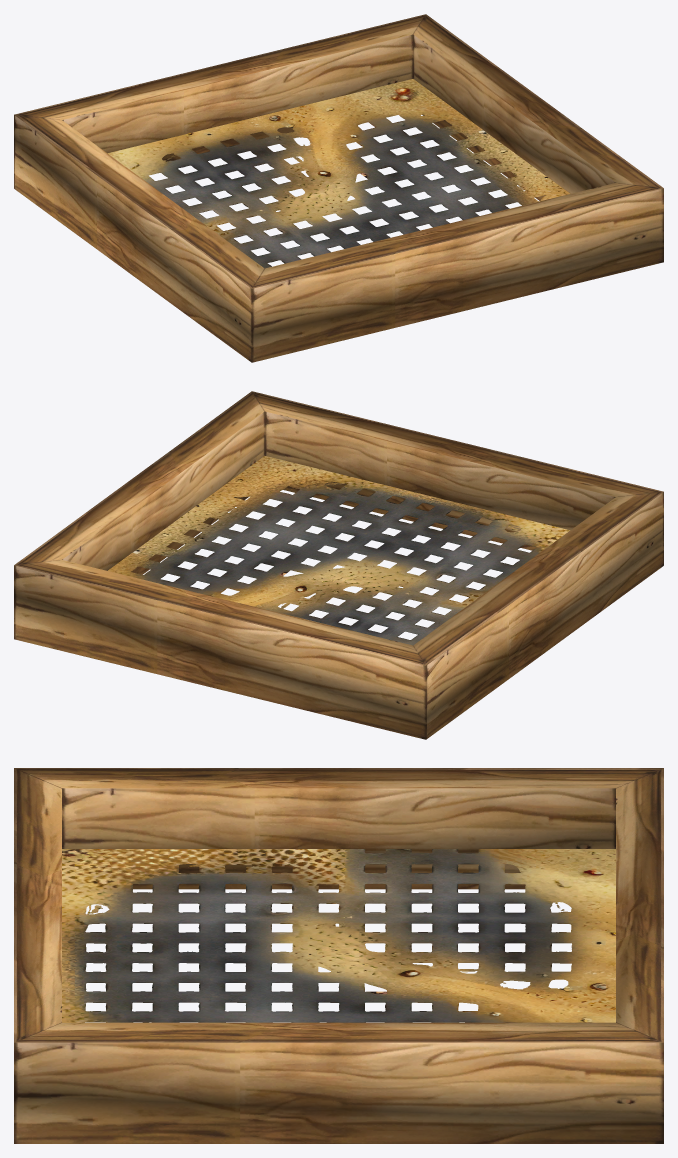
File: miningsifter01.obj
3 renders of one model, top to bottom at view 1: azimuth 30°, elevation 25°; view 2: azimuth 150°, elevation 25°; view 3: azimuth 270°, elevation 25°, orthographic. The views are drawn at different scales.
Parts seen in each view (by area): view 1: Geoset0, Geoset1; view 2: Geoset0, Geoset1; view 3: Geoset0, Geoset1.
Boxes of the visible parts, bbox=[...] form: Geoset0: bbox=[14, 14, 663, 362]; Geoset1: bbox=[108, 79, 569, 268]; Geoset0: bbox=[14, 391, 663, 739]; Geoset1: bbox=[108, 456, 569, 645]; Geoset0: bbox=[14, 768, 663, 1143]; Geoset1: bbox=[62, 849, 615, 1022].
Size of the model in its own units: 1.51 by 0.2587 by 1.51.
2 materials, 2 textured.
